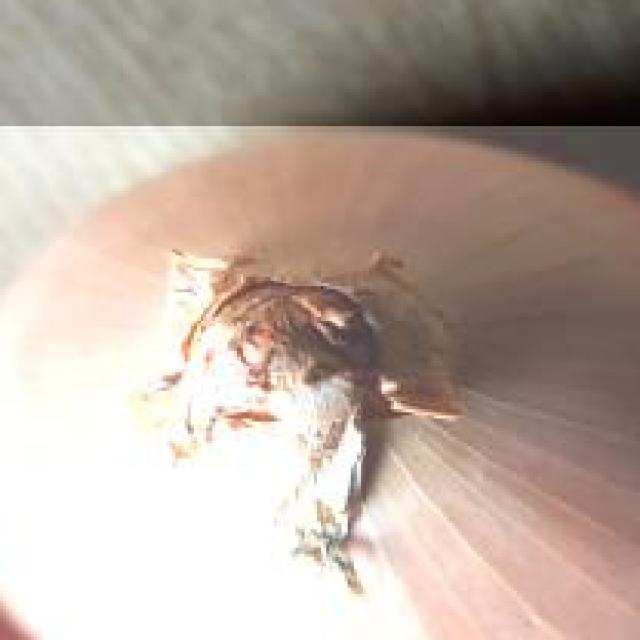onion: (0, 132, 640, 640)
